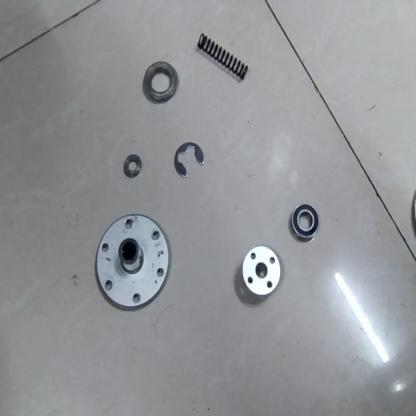FOD: (93, 212, 172, 311), (194, 30, 254, 82), (239, 246, 284, 301), (139, 60, 181, 104), (170, 136, 206, 180), (288, 203, 322, 243), (121, 151, 144, 181)
